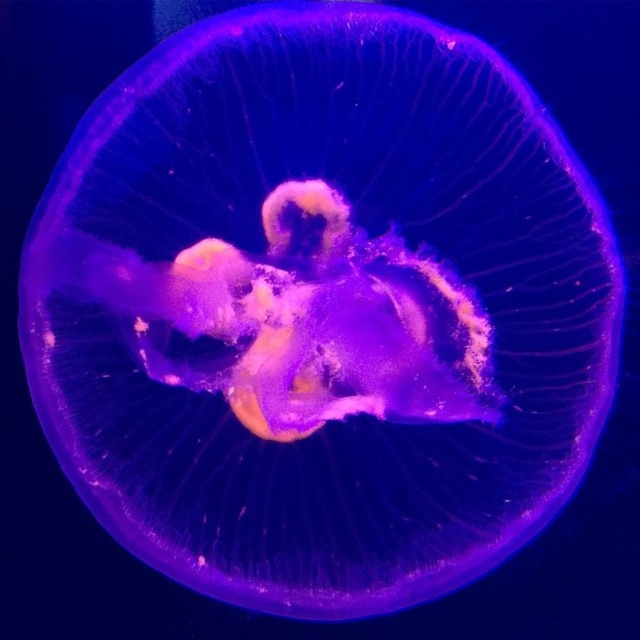Jellyfish: (27, 5, 640, 610)
